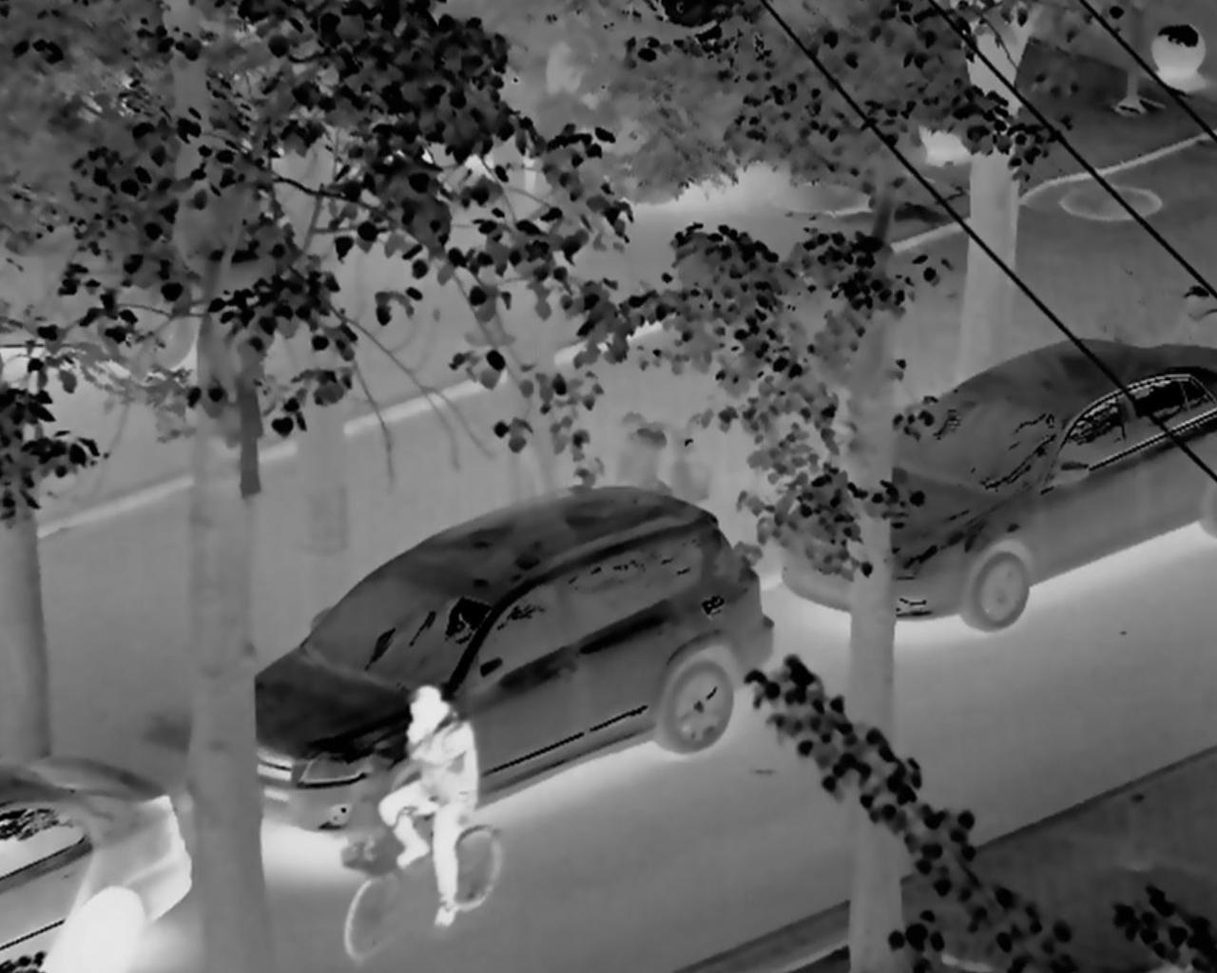person: (377, 687, 486, 924)
